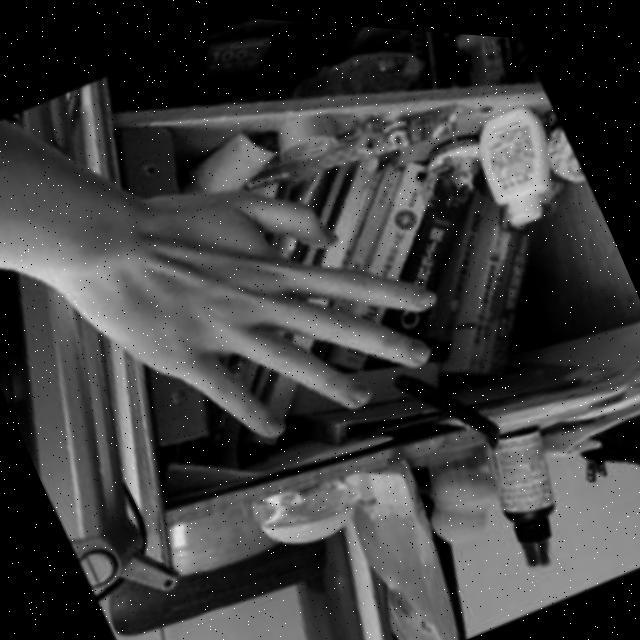no-gloves: (44, 96, 468, 504)
